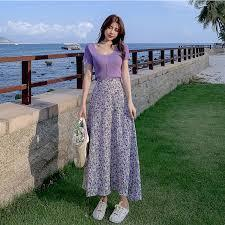Tshirt: (74, 40, 134, 82)
skirt: (78, 79, 153, 205)
